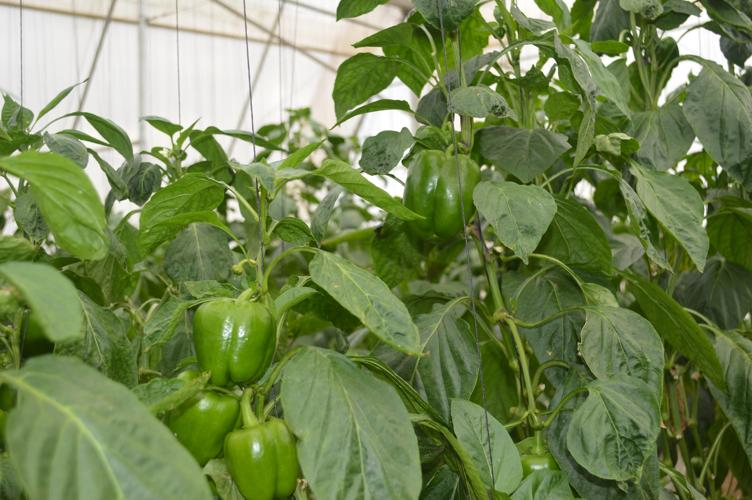BellPepper: (187, 292, 287, 394), (397, 151, 488, 257), (219, 412, 307, 500), (167, 385, 233, 467)
